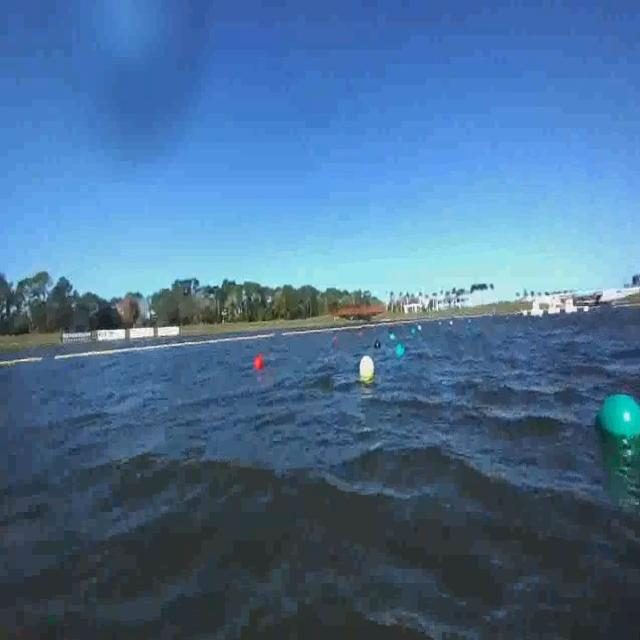black-buoy: (373, 340, 379, 350)
green-buoy: (596, 395, 640, 448), (395, 345, 405, 359)
red-buoy: (254, 354, 264, 371)
yellow-buoy: (360, 354, 374, 381)
